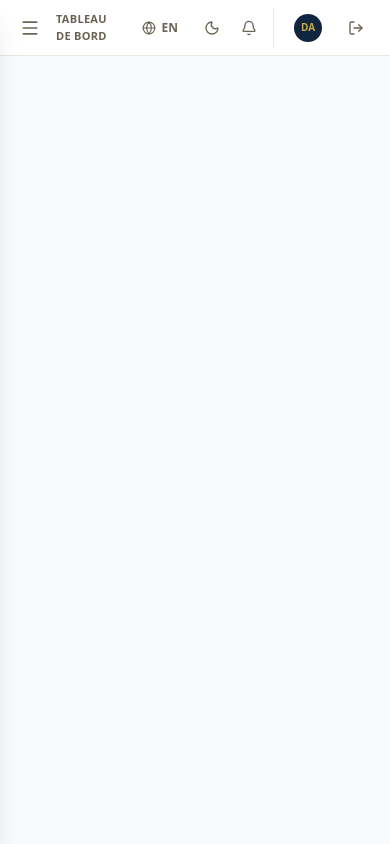
Scenario: AUDIT-019 — responsive sidebar drawer › exposes a hamburger button that opens the drawer
The image size is (390, 844).
Click the button named "Ouvrir le menu" at (30, 28), box [12,10,48,46]
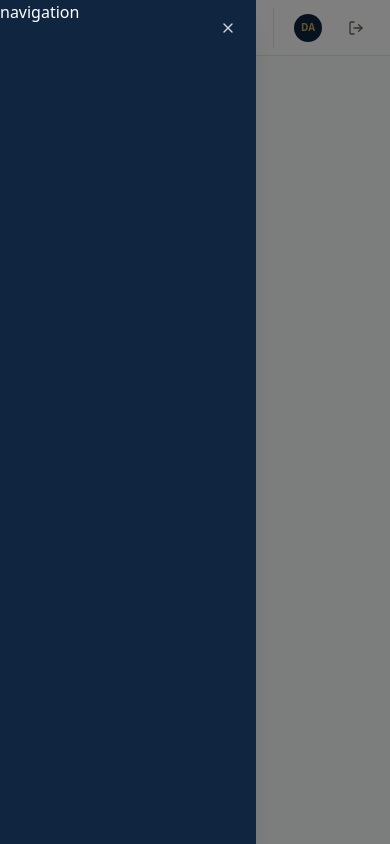
Now the button named "Ouvrir le menu" is expanded, box [12,10,48,46]
